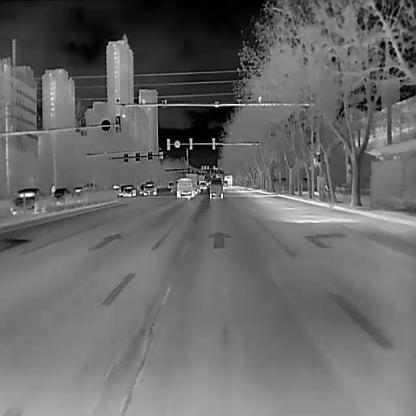car: (9, 187, 46, 213), (175, 177, 194, 199), (208, 177, 224, 199), (51, 187, 73, 203), (142, 180, 156, 196), (121, 184, 134, 196)
